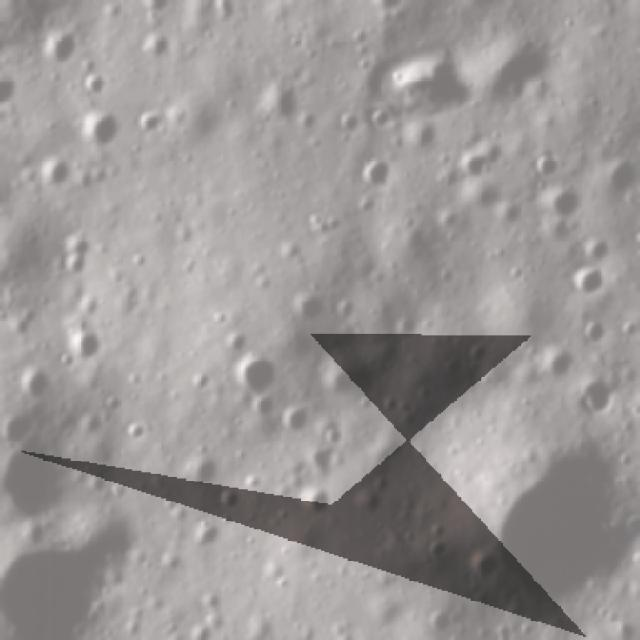crater: (498, 446, 632, 616), (0, 517, 146, 640), (390, 56, 475, 116), (4, 445, 62, 530), (232, 358, 282, 402), (600, 154, 640, 203), (74, 110, 120, 152), (38, 28, 82, 70), (569, 264, 609, 308), (1, 408, 42, 448), (575, 380, 617, 418), (286, 291, 326, 327), (61, 234, 94, 277), (265, 79, 298, 121), (186, 520, 226, 551), (182, 454, 218, 488), (276, 404, 312, 438), (540, 350, 572, 388), (463, 550, 497, 584), (545, 188, 583, 218), (18, 368, 50, 402), (137, 33, 175, 61), (358, 158, 398, 184), (295, 489, 333, 516), (77, 329, 105, 365), (75, 73, 111, 101), (418, 610, 458, 635), (219, 328, 250, 359), (578, 233, 611, 262), (578, 314, 604, 348), (537, 146, 561, 182), (123, 418, 154, 445), (43, 160, 69, 192), (461, 152, 493, 178), (612, 317, 640, 346), (333, 111, 361, 138), (367, 107, 396, 133), (210, 488, 244, 510), (252, 393, 276, 424), (306, 450, 336, 473), (422, 542, 447, 568), (0, 72, 17, 110), (321, 422, 344, 450), (187, 370, 210, 396), (298, 112, 322, 136), (398, 318, 420, 344), (468, 343, 492, 365), (427, 521, 447, 542)
